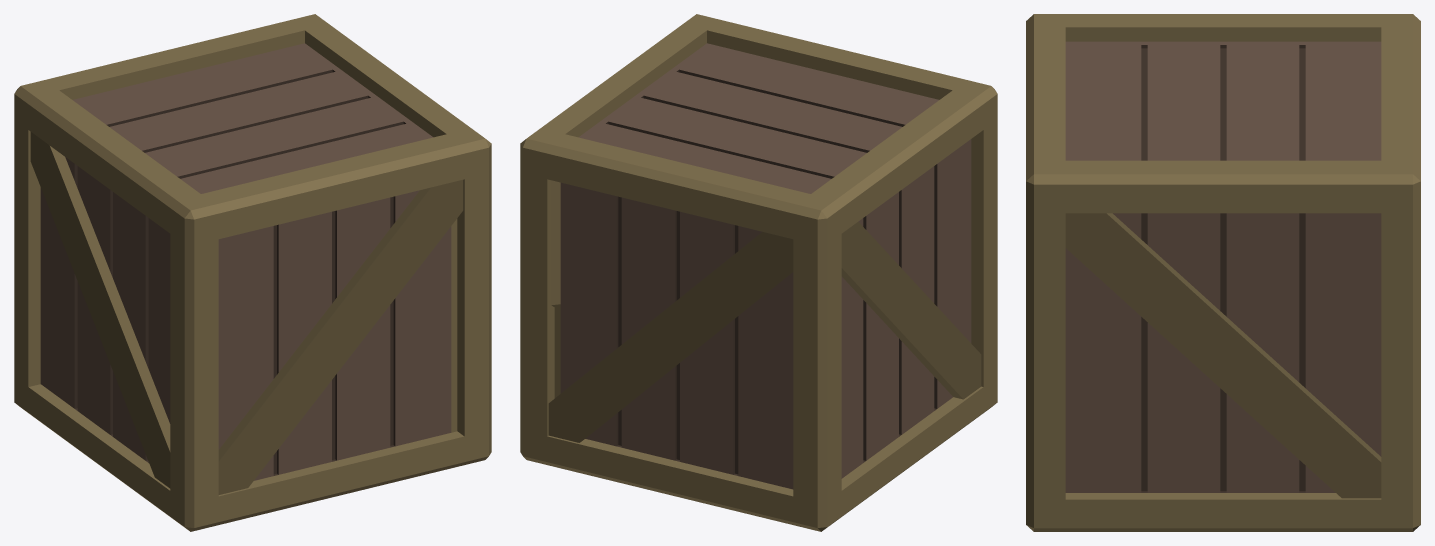
3 renders of one model, left to right at view 1: azimuth 30°, elevation 25°; view 2: azimuth 150°, elevation 25°; view 3: azimuth 270°, elevation 25°, orthographic. The views are drawn at different scales.
Parts seen in each view (by area): view 1: box; view 2: box; view 3: box.
Boxes of the visible parts, box(x1,y1,x2,y2) form: box: box(14, 14, 491, 531); box: box(520, 14, 997, 531); box: box(1026, 14, 1420, 531).
Size of the model in its own units: 4 by 4 by 4.
